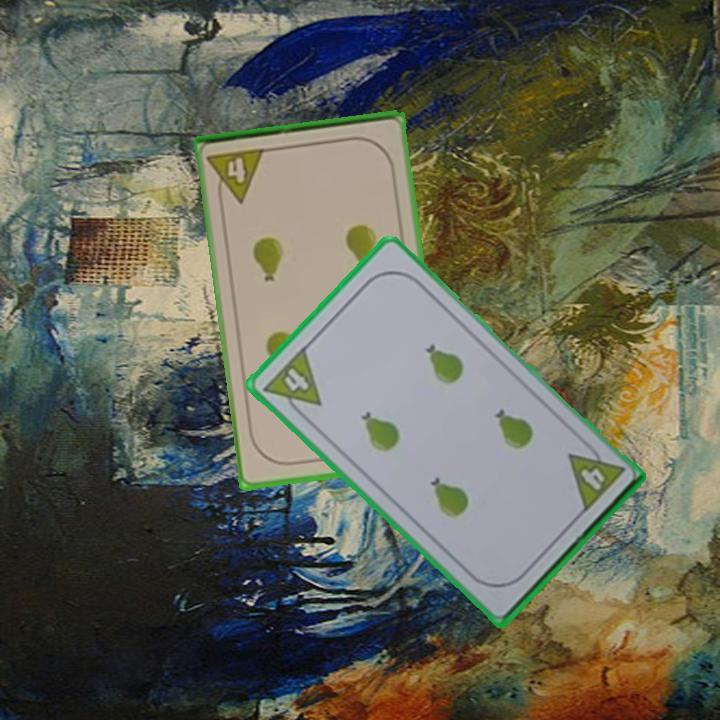4p: (259, 343, 324, 423), (564, 437, 627, 516), (204, 144, 269, 207)
